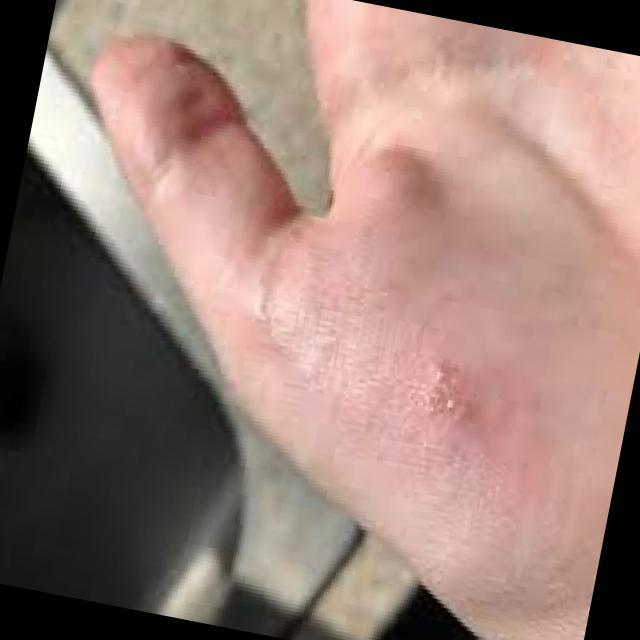Eczema: (139, 74, 483, 459)
